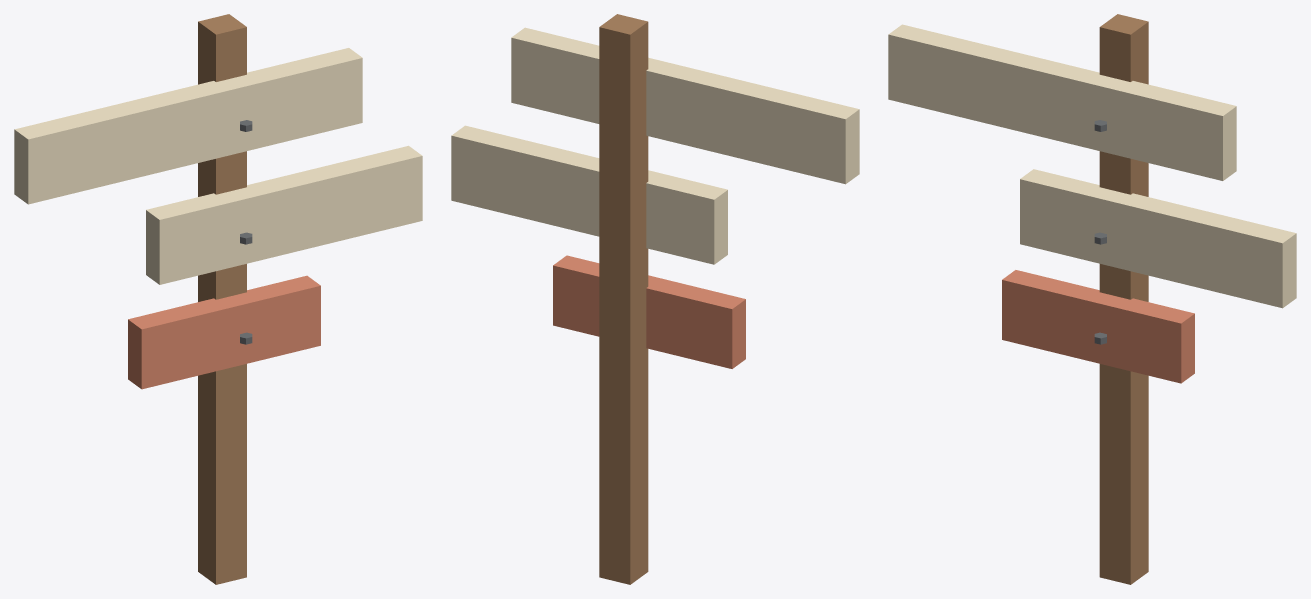
The model's file is frontier-trail-signpost__243.glb.
3 views of the same model, side by side, from view 1: azimuth 30°, elevation 25°; view 2: azimuth 150°, elevation 25°; view 3: azimuth 330°, elevation 25° (orthographic).
Parts seen in each view (by area): view 1: frontier-post-trail-sign; view 2: frontier-post-trail-sign; view 3: frontier-post-trail-sign.
Part boxes in pixels (bbox=[...]): frontier-post-trail-sign: bbox=[14, 14, 422, 584]; frontier-post-trail-sign: bbox=[451, 14, 859, 584]; frontier-post-trail-sign: bbox=[888, 14, 1296, 584].
Size of the model in its own units: 1.65 by 2.2 by 0.2575.
